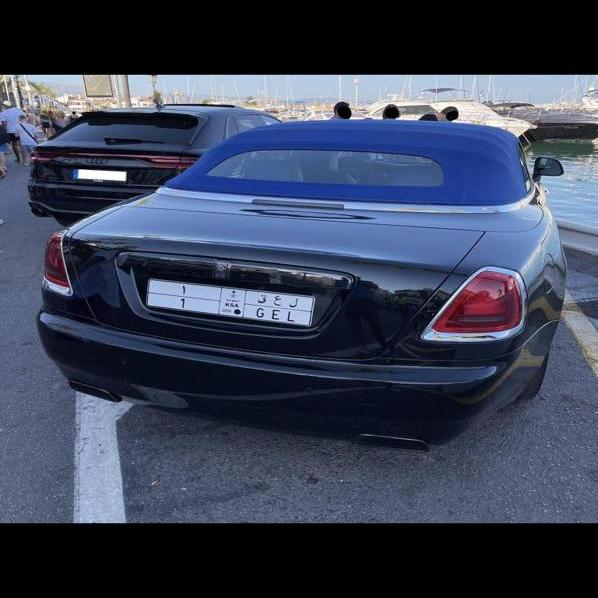numberplate: (145, 275, 316, 330)
